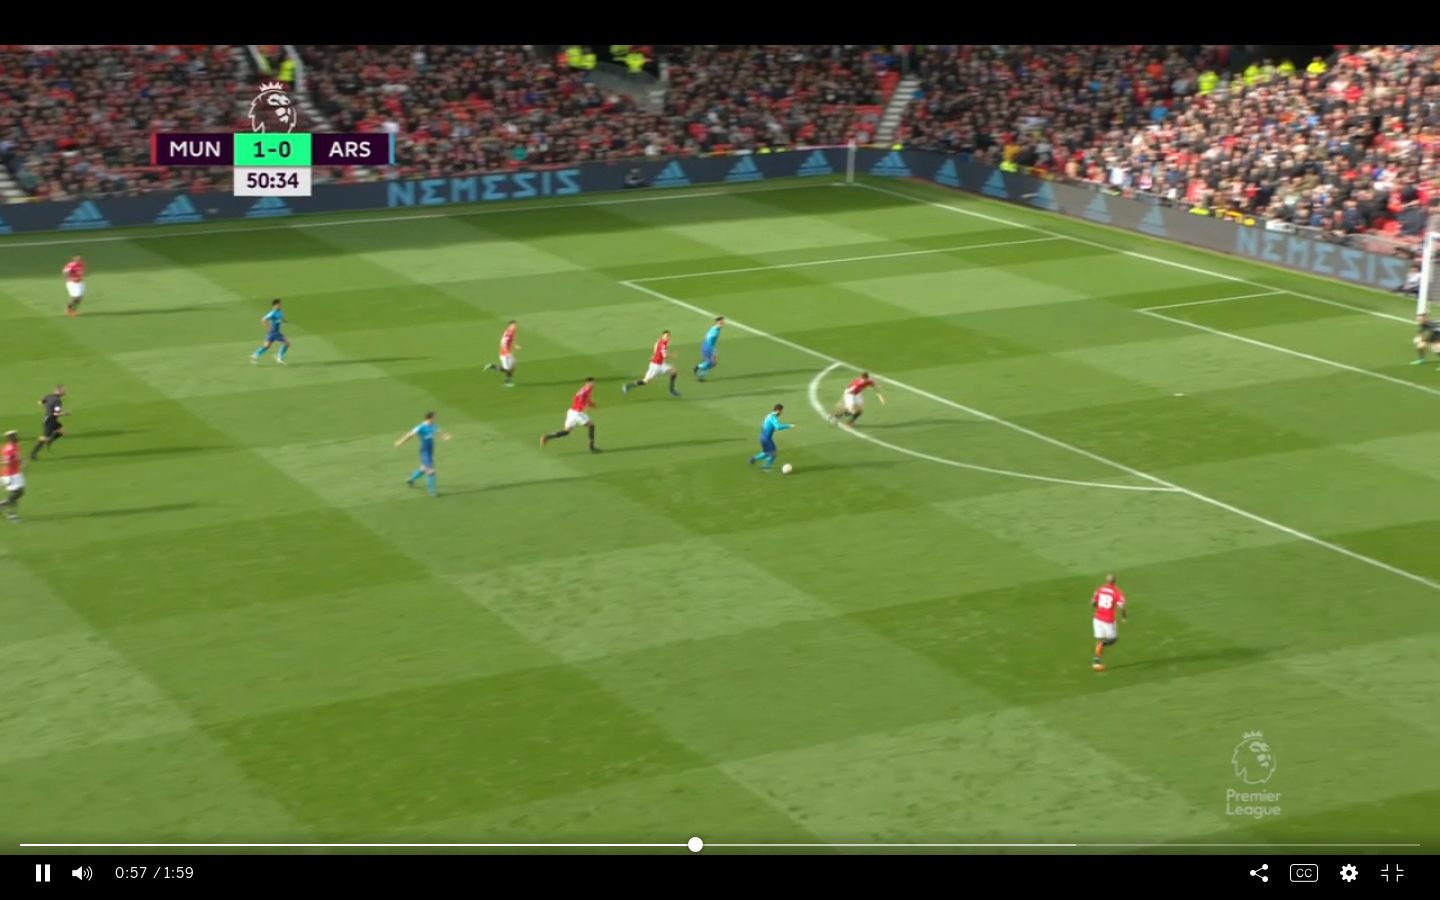referee: (32, 377, 75, 463)
soccer player: (390, 409, 453, 506), (621, 329, 684, 402), (541, 376, 599, 456), (828, 369, 885, 439), (1088, 572, 1125, 674), (481, 314, 524, 394), (250, 297, 293, 365), (690, 314, 728, 392), (752, 403, 785, 476), (1, 423, 27, 515), (59, 248, 90, 319), (1408, 305, 1439, 376)
soccerball: (778, 457, 798, 479)
